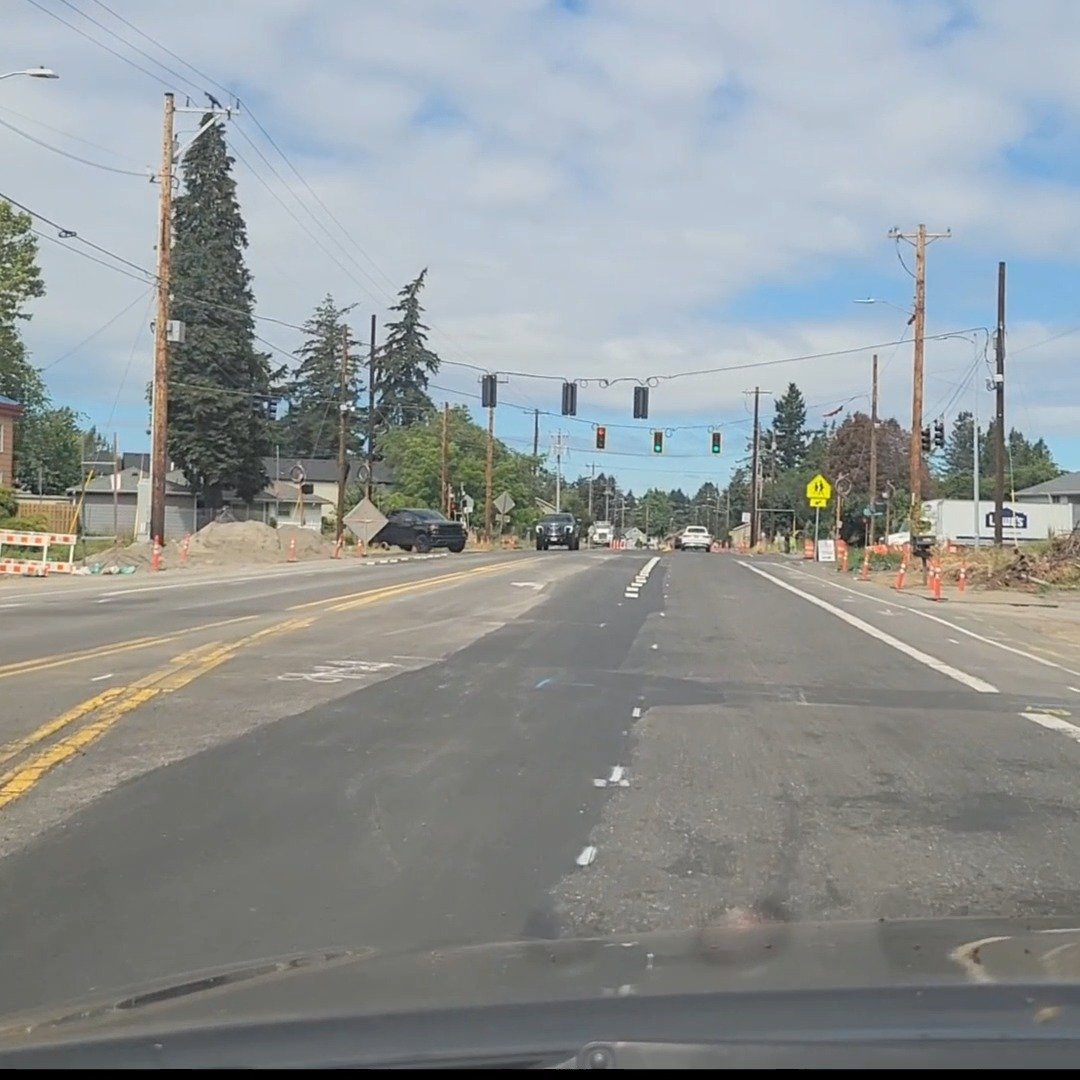car: (533, 512, 582, 549), (673, 524, 714, 551), (589, 520, 615, 546)
crosswalk-sign: (805, 474, 830, 508)
delineator: (858, 545, 872, 580), (894, 553, 907, 589), (150, 536, 162, 570), (930, 567, 942, 598), (179, 533, 191, 561), (332, 533, 345, 558), (286, 536, 298, 562), (839, 544, 848, 572), (957, 566, 966, 591), (355, 536, 365, 557), (745, 540, 754, 555), (473, 532, 480, 546)
